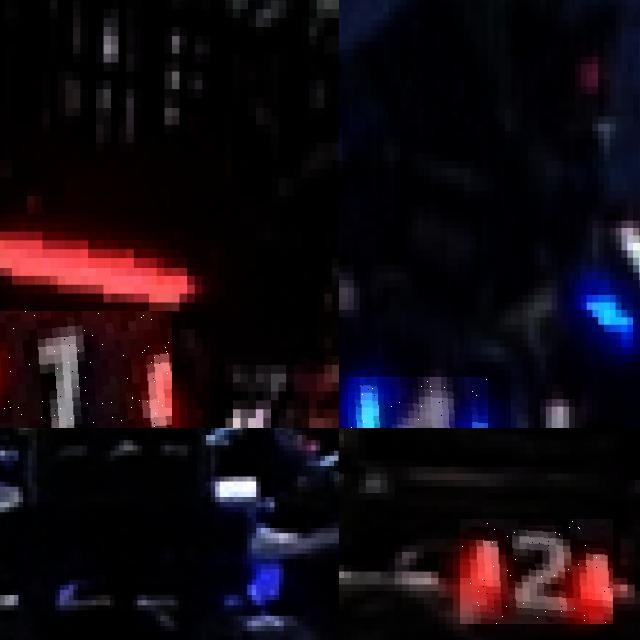B4: (348, 376, 487, 428)
R1: (0, 311, 172, 428)
R2: (460, 519, 613, 624)
